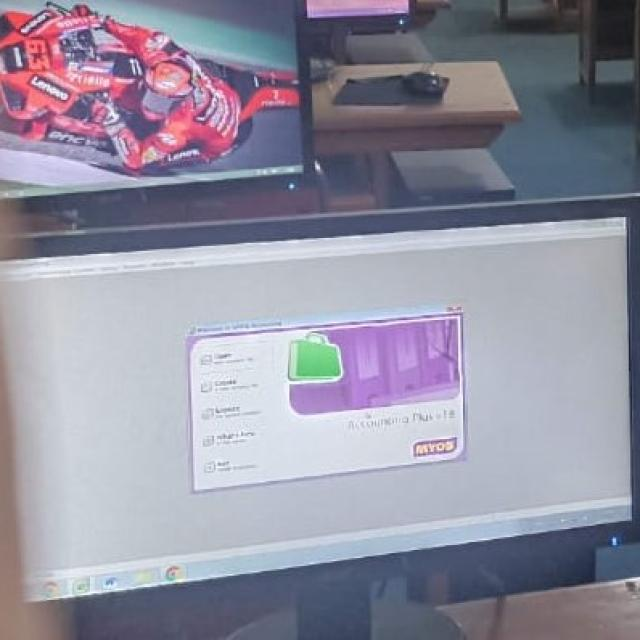onscreen: (5, 202, 639, 618), (3, 0, 311, 205)
